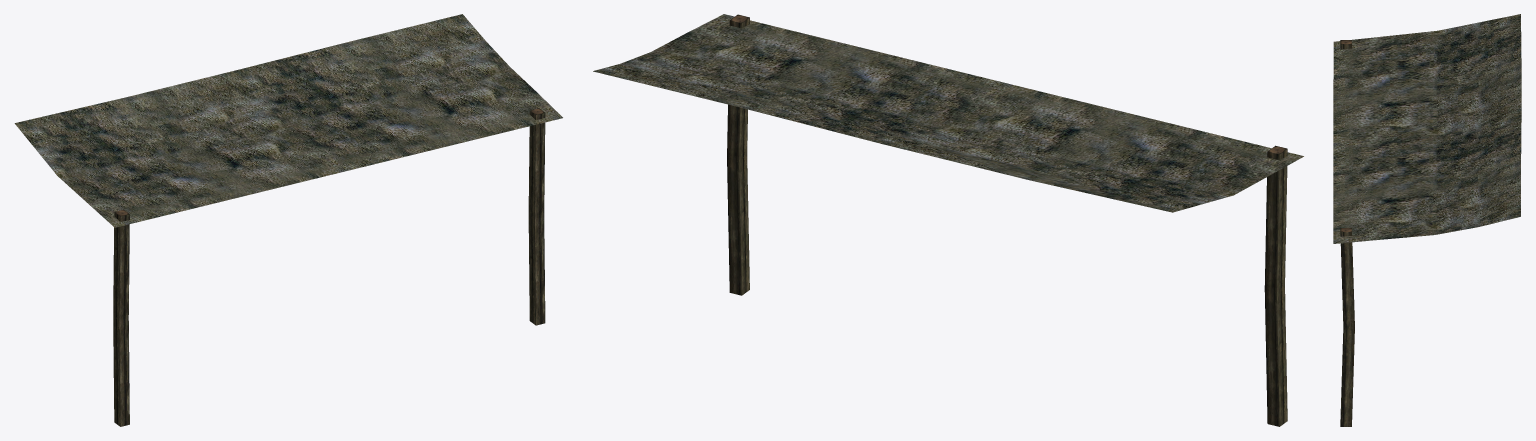
The model's file is schronienie22.glb.
3 views of the same model, side by side, from view 1: azimuth 30°, elevation 25°; view 2: azimuth 150°, elevation 25°; view 3: azimuth 270°, elevation 25° (orthographic). The views are drawn at different scales.
Visible parts, largest first — view 1: zengin01; view 2: zengin01; view 3: zengin01.
Boxes of the visible parts, box(x1,y1,x2,y2) form: zengin01: box(14, 14, 562, 426); zengin01: box(593, 14, 1303, 426); zengin01: box(1333, 14, 1521, 426).
Bounding box in the file's own units: 6.9 × 3.43 × 2.69.
Materials: 6 (6 with a texture image).
